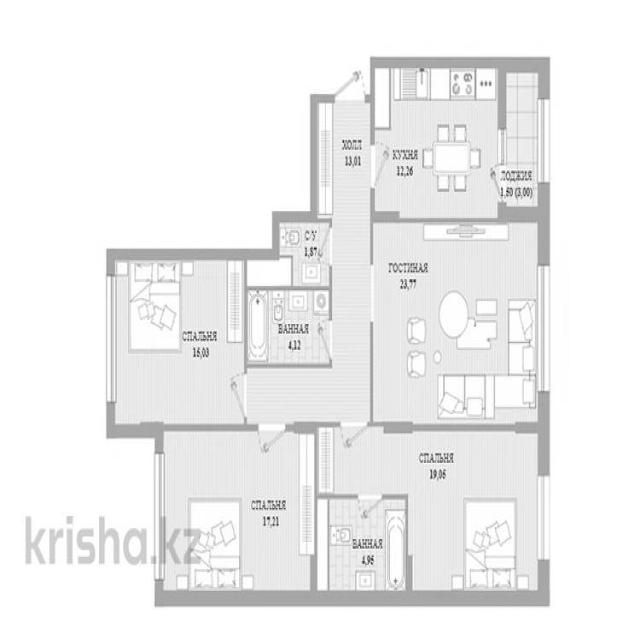balcony: (503, 60, 544, 215)
bathroom: (319, 492, 405, 596), (249, 288, 331, 362), (280, 219, 328, 283)
hallway: (335, 100, 370, 421)
kitchen: (376, 54, 502, 216)
living_room: (372, 222, 541, 424), (156, 426, 314, 600), (110, 255, 246, 424), (406, 434, 544, 600)
